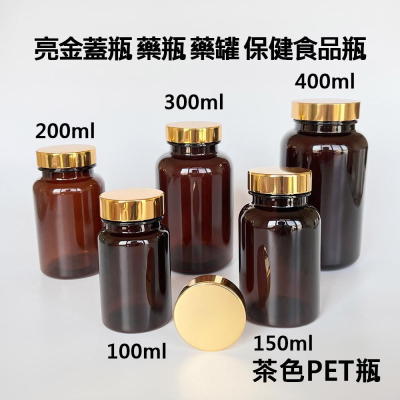medicinejar: (273, 95, 365, 275), (235, 165, 329, 331), (156, 118, 239, 276), (96, 186, 176, 329), (34, 141, 106, 281)
